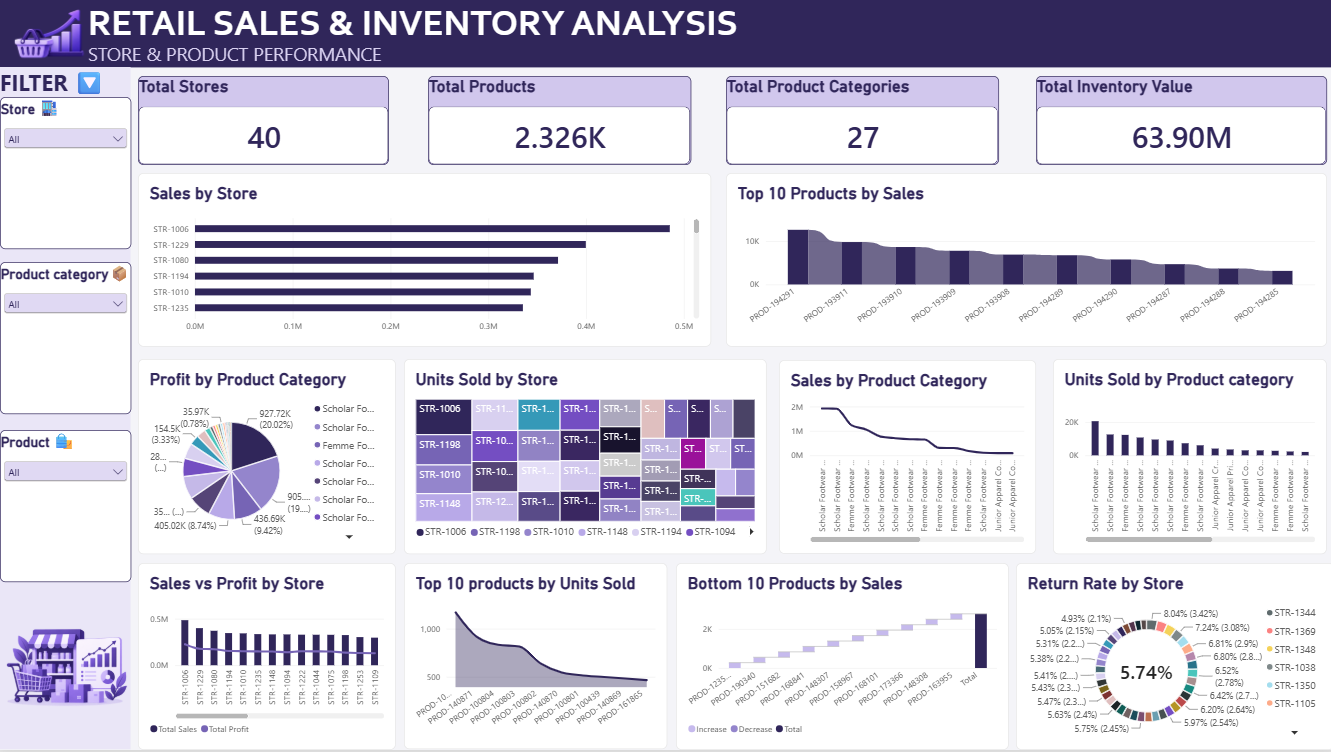

What the dashboard file says about the page in this screenshot:
{"tool":"powerbi","page":{"name":"Store & Product Performance","canvas":[1920,1080],"ordinal":1},"visuals":[{"type":"cardVisual","title":"Total Stores","fields":{"Data":["Count(retail_inventory_clean.Store)"]},"box":[198.6,109.4,361.3,128.1],"z":0},{"type":"cardVisual","title":"Total Products","fields":{"Data":["Count(retail_inventory_clean.Product_No)"]},"box":[616,109.4,378.5,128.1],"z":1000},{"type":"cardVisual","title":"Total Product Categories","fields":{"Data":["Count(retail_inventory_clean.Product_Category)"]},"box":[1044.9,109.4,392.9,128.1],"z":2000},{"type":"cardVisual","title":"Total Inventory Value","fields":{"Data":["Sum(retail_inventory_clean.Inventory_Value)"]},"box":[1491.1,109.4,418.8,128.1],"z":3000},{"type":"barChart","title":"Sales by Store","fields":{"Category":["retail_sales_clean.Store"],"Y":["retail_sales_clean.Total Sales"]},"box":[198.6,249,824.7,250.4],"z":4000},{"type":"ribbonChart","title":"Top 10 Products by Sales","fields":{"Category":["retail_sales_clean.Product_No"],"Y":["retail_sales_clean.Total Sales"]},"box":[1044.9,249,865,250.4],"z":5000},{"type":"lineClusteredColumnComboChart","title":"Sales vs Profit by Store","fields":{"Category":["retail_sales_clean.Store"],"Y":["retail_sales_clean.Total Sales"],"Y2":["retail_sales_clean.Total Profit"]},"box":[198.6,810.3,371.3,269.1],"z":6000},{"type":"treemap","title":"Units Sold by Store","fields":{"Group":["retail_sales_clean.Store"],"Values":["retail_sales_clean.Total Units Sold"]},"box":[581.5,516.7,522.5,280.7],"z":7000},{"type":"lineChart","title":"Sales by Product Category","fields":{"Category":["retail_sales_clean.Product_Category"],"Y":["retail_sales_clean.Total Sales"]},"box":[1121.2,518.1,369.9,279.2],"z":8000},{"type":"pieChart","title":"Profit by Product Category","fields":{"Category":["retail_sales_clean.Product_Category"],"Y":["retail_sales_clean.Total Profit"]},"box":[198.6,516.7,371,281],"z":9000},{"type":"clusteredColumnChart","title":"Units Sold by Product category","fields":{"Category":["retail_sales_clean.Product_Category"],"Y":["retail_sales_clean.Total Units Sold"]},"box":[1515.6,516.7,394.4,280.7],"z":10000},{"type":"stackedAreaChart","title":"Top 10 products by Units Sold","fields":{"Category":["retail_sales_clean.Product_No"],"Y":["retail_sales_clean.Total Units Sold"]},"box":[581.5,810.3,378.5,267.7],"z":11000},{"type":"waterfallChart","title":"Bottom 10 Products by Sales","fields":{"Category":["retail_sales_clean.Product_No"],"Y":["retail_sales_clean.Total Sales"]},"box":[973,810.3,479.3,269.1],"z":12000},{"type":"donutChart","title":"Return Rate by Store","fields":{"Category":["retail_sales_clean.Store"],"Y":["retail_sales_clean.Return Rate %"]},"box":[1462.3,810.3,457.7,269.1],"z":13000},{"type":"shape","box":[0,0,1920,97],"z":14000},{"type":"image","box":[0,0,137.1,96.3],"z":15000},{"type":"textbox","box":[126.9,0,1793.1,80.2],"z":16000},{"type":"textbox","box":[126.9,58.4,977.5,37.9],"z":17000},{"type":"shape","box":[0,96.3,188,981.9],"z":18000},{"type":"textbox","box":[0,96.3,188.2,48.1],"z":19000},{"type":"slicer","title":"Store 🏬","fields":{"Values":["retail_inventory_clean.Store"]},"box":[0,139.6,188.5,218.8],"z":20000},{"type":"slicer","title":"Product category📦","fields":{"Values":["retail_inventory_clean.Product_Category"]},"box":[0,377.1,188.5,218.8],"z":21000},{"type":"slicer","title":"Product 🛍️","fields":{"Values":["retail_inventory_clean.Product_No"]},"box":[0,618.9,188.5,218.8],"z":22000},{"type":"image","box":[0,745.5,188.5,333.9],"z":23000}]}

Visuals, with their boxes in screenshot pixels (x1, y1, x2, y2), scaled from the page's 1920x1080 canvas onto the 1331x752 screenshot:
"Total Stores" cardVisual: BBox(138, 76, 388, 165)
"Total Products" cardVisual: BBox(427, 76, 689, 165)
"Total Product Categories" cardVisual: BBox(724, 76, 997, 165)
"Total Inventory Value" cardVisual: BBox(1034, 76, 1324, 165)
"Sales by Store" barChart: BBox(138, 173, 709, 348)
"Top 10 Products by Sales" ribbonChart: BBox(724, 173, 1324, 348)
"Sales vs Profit by Store" lineClusteredColumnComboChart: BBox(138, 564, 395, 751)
"Units Sold by Store" treemap: BBox(403, 360, 765, 555)
"Sales by Product Category" lineChart: BBox(777, 361, 1034, 555)
"Profit by Product Category" pieChart: BBox(138, 360, 395, 555)
"Units Sold by Product category" clusteredColumnChart: BBox(1051, 360, 1324, 555)
"Top 10 products by Units Sold" stackedAreaChart: BBox(403, 564, 666, 751)
"Bottom 10 Products by Sales" waterfallChart: BBox(675, 564, 1007, 751)
"Return Rate by Store" donutChart: BBox(1014, 564, 1330, 751)
shape: BBox(0, 0, 1330, 68)
image: BBox(0, 0, 95, 67)
textbox: BBox(88, 0, 1330, 56)
textbox: BBox(88, 41, 766, 67)
shape: BBox(0, 67, 130, 751)
textbox: BBox(0, 67, 130, 101)
"Store 🏬" slicer: BBox(0, 97, 131, 250)
"Product category📦" slicer: BBox(0, 263, 131, 415)
"Product 🛍️" slicer: BBox(0, 431, 131, 583)
image: BBox(0, 519, 131, 751)
